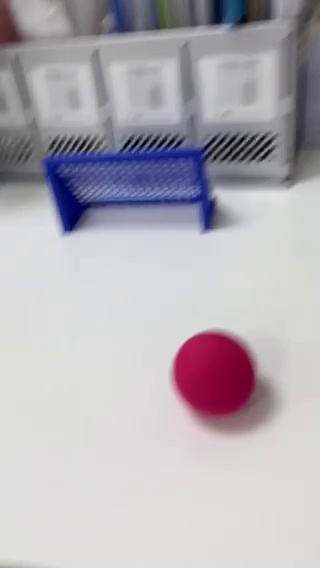goal: (41, 130, 216, 236)
redball: (166, 327, 260, 419)
